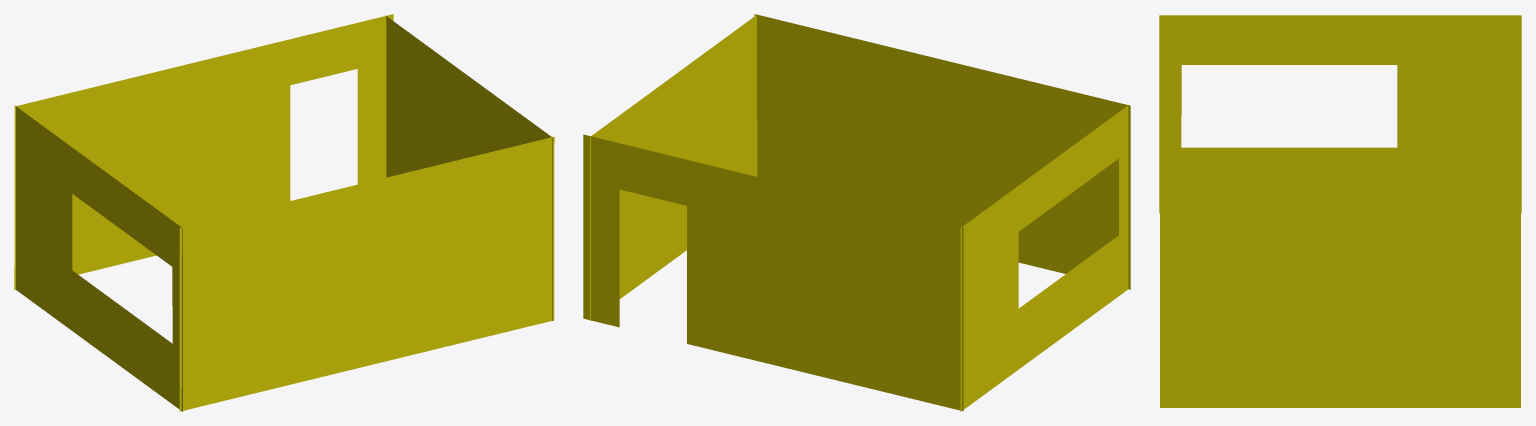
3 renders of one model, left to right at view 1: azimuth 30°, elevation 25°; view 2: azimuth 150°, elevation 25°; view 3: azimuth 270°, elevation 25°, orthographic. The views are drawn at different scales.
Visible parts, largest first — view 1: BH03B_WP_09; view 2: BH03B_WP_09; view 3: BH03B_WP_09.
Part boxes in pixels (x1,y1,x2,y2): BH03B_WP_09: [14, 14, 554, 411]; BH03B_WP_09: [583, 14, 1130, 411]; BH03B_WP_09: [1159, 15, 1521, 407].
Bounding box in the file's own units: 649 × 300 × 498.
